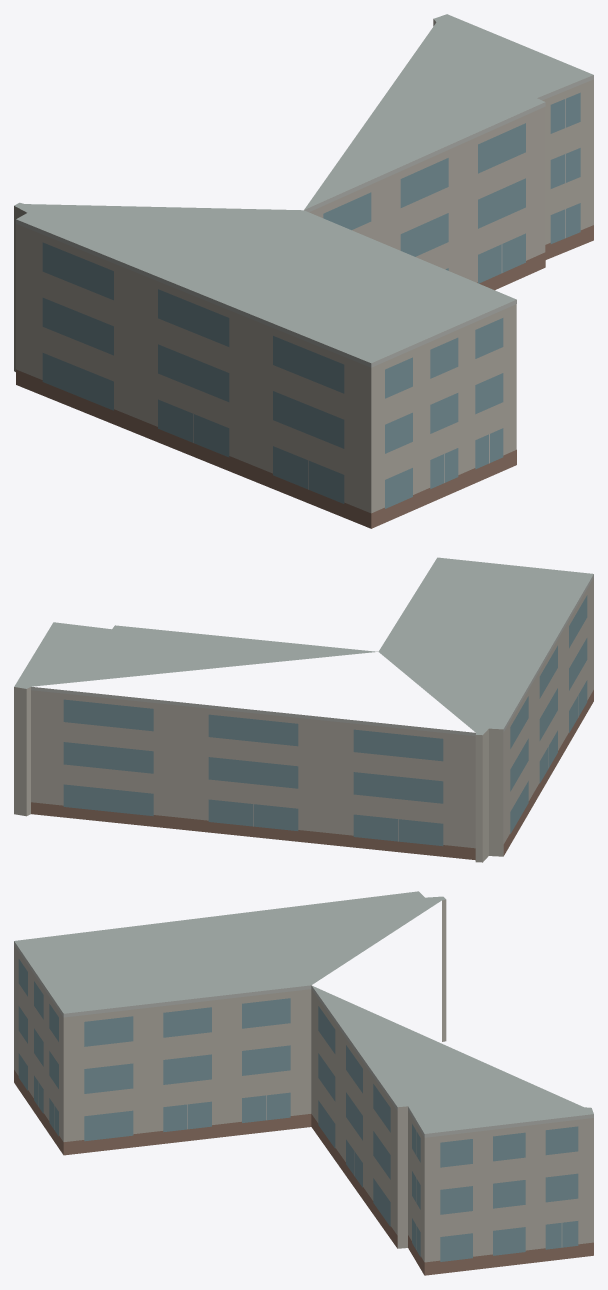
File: survey-upis-32974416.glb
3 renders of one model, top to bottom at view 1: azimuth 30°, elevation 25°; view 2: azimuth 150°, elevation 25°; view 3: azimuth 270°, elevation 25°, orthographic. The views are drawn at different scales.
Parts seen in each view (by area): view 1: survey-upis-32974416.tmp; view 2: survey-upis-32974416.tmp; view 3: survey-upis-32974416.tmp.
Boxes of the visible parts, left/top/right/bottom form: survey-upis-32974416.tmp: left=14, top=14, right=593, bottom=528; survey-upis-32974416.tmp: left=14, top=557, right=593, bottom=862; survey-upis-32974416.tmp: left=14, top=891, right=593, bottom=1275.
Bounding box in the file's own units: 33.65 × 9.15 × 33.97.
